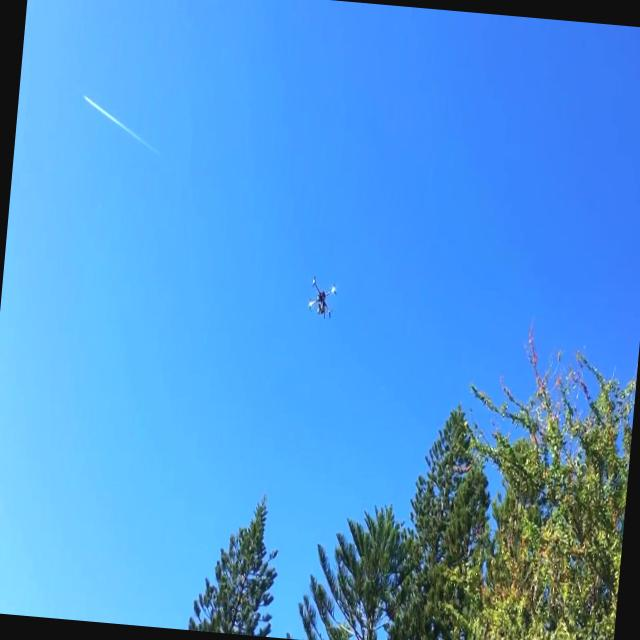drone: (302, 274, 340, 320)
